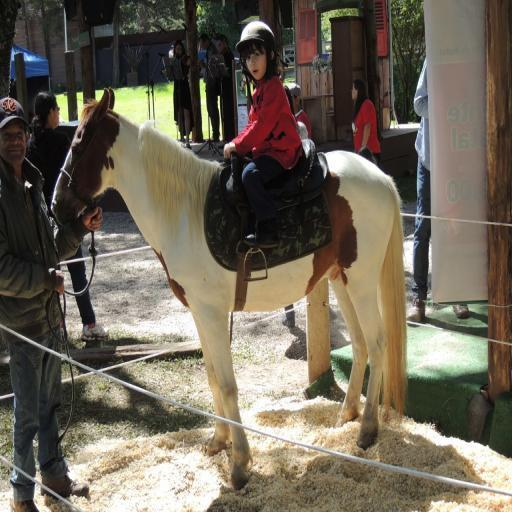horse: (50, 85, 410, 492)
